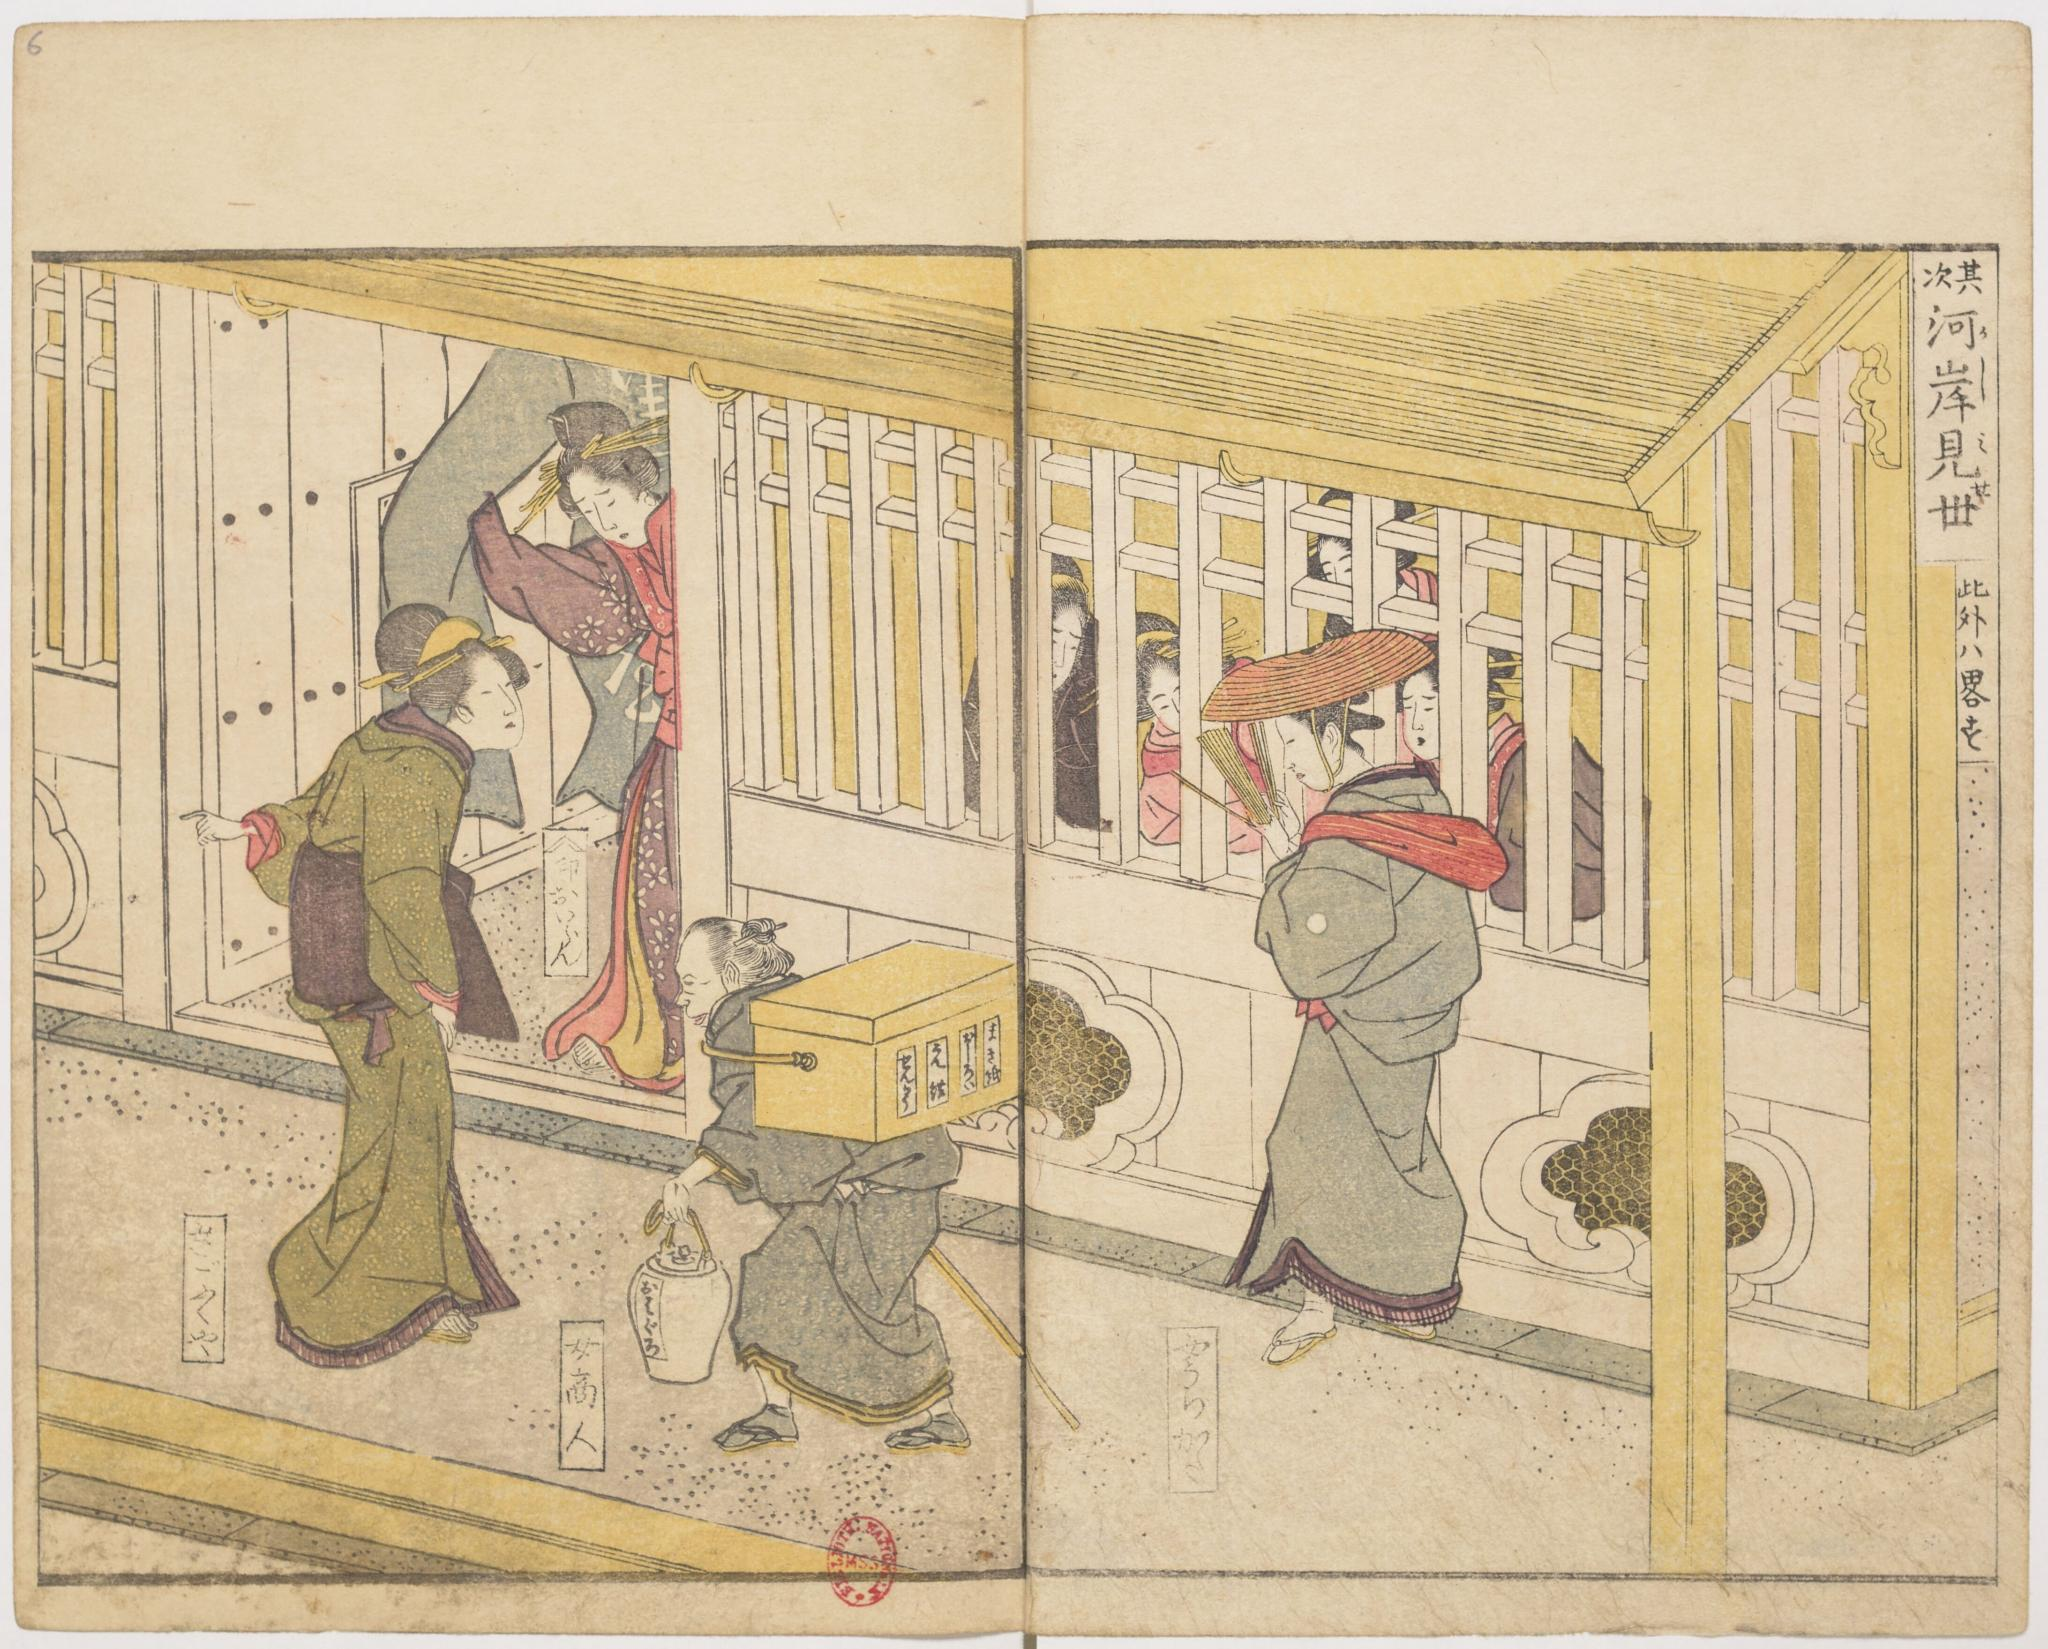MainZone-Character: (1923, 348, 1991, 421), (1923, 422, 1996, 481), (1923, 480, 1996, 535), (1923, 301, 1989, 350)
MainZone-Ruby: (1972, 355, 1989, 402), (1974, 424, 1989, 458), (1974, 480, 1994, 505), (1976, 320, 1991, 343)
